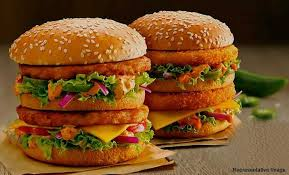hamburger: (8, 10, 153, 168), (127, 11, 241, 145)
